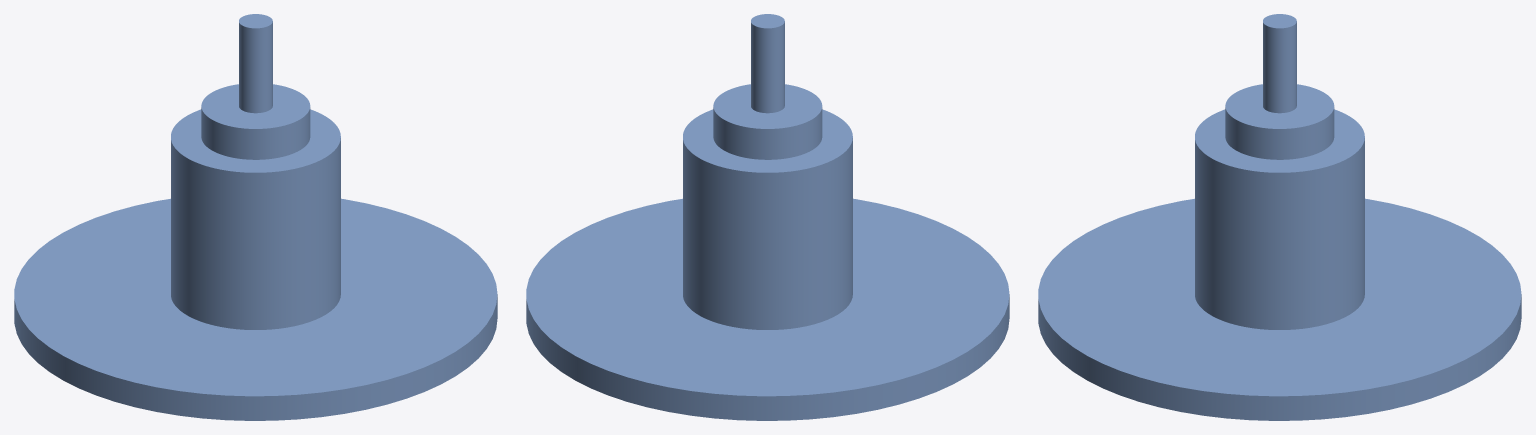
File: step_52.glb
3 renders of one model, left to right at view 1: azimuth 30°, elevation 25°; view 2: azimuth 150°, elevation 25°; view 3: azimuth 270°, elevation 25°, orthographic.
Parts seen in each view (by area): view 1: part__4" needle valve bonnet and stem; view 2: part__4" needle valve bonnet and stem; view 3: part__4" needle valve bonnet and stem.
Part boxes in pixels (x1,y1,x2,y2): part__4" needle valve bonnet and stem: (14, 14, 497, 420); part__4" needle valve bonnet and stem: (526, 14, 1009, 420); part__4" needle valve bonnet and stem: (1038, 14, 1521, 420).
Size of the model in its own units: 162 by 110 by 162.
